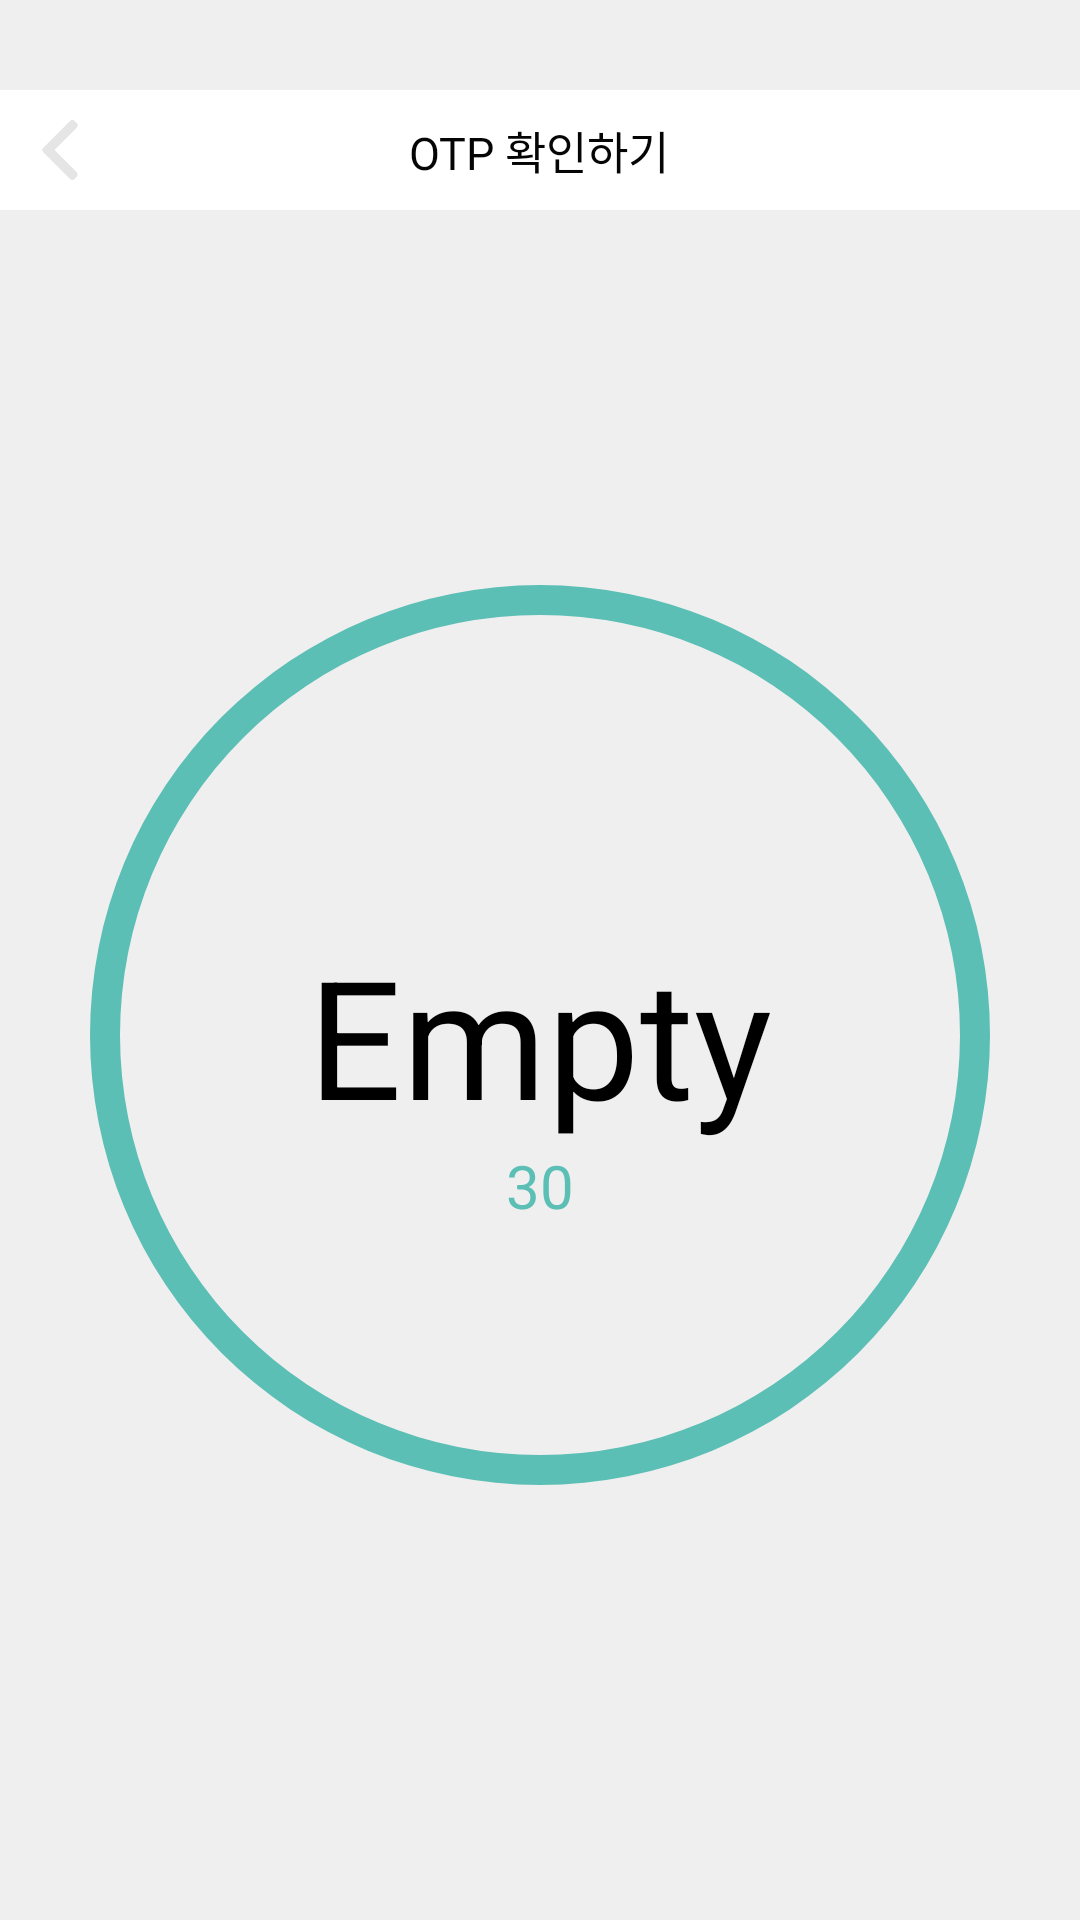

Point at icon controls on the screen. Image size 1080 × 1920, points as (x,y).
left arrow: (60,150)
